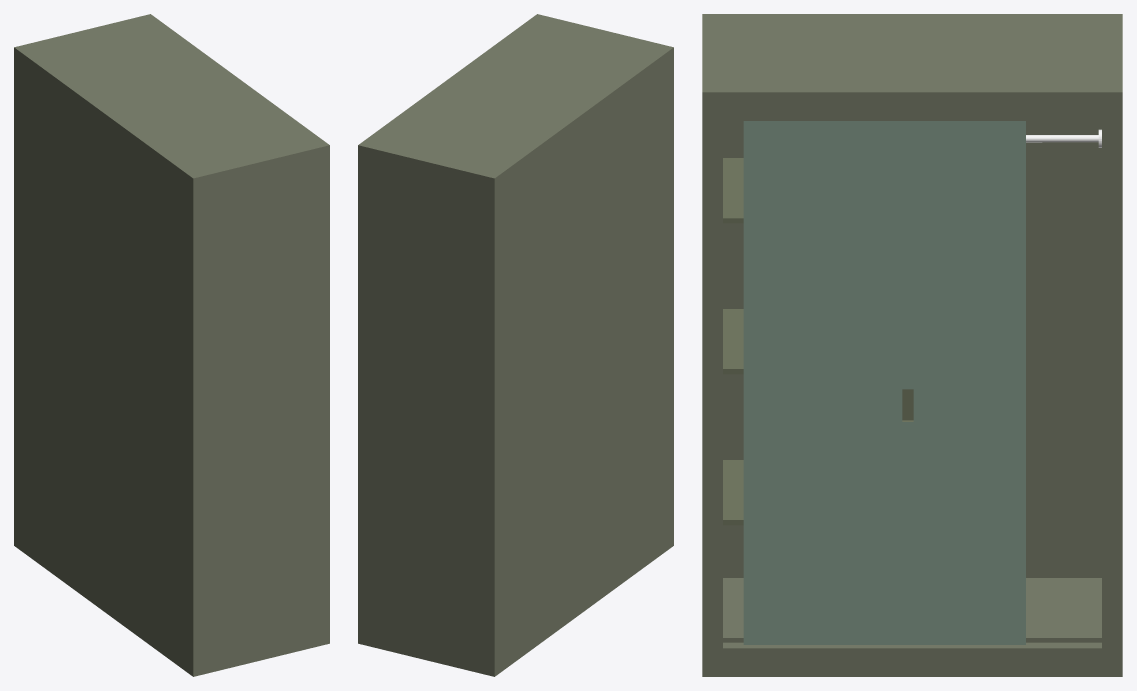
The model's file is wardrobe.fbx.
The picture shows the model from 3 angles, left to right: view 1: azimuth 30°, elevation 25°; view 2: azimuth 150°, elevation 25°; view 3: azimuth 270°, elevation 25°; orthographic projection. The views are drawn at different scales.
Parts seen in each view (by area): view 1: gauche; view 2: gauche; view 3: gauche.
Boxes of the visible parts, <box> form: gauche: <box>14,14,329,676</box>; gauche: <box>358,14,673,676</box>; gauche: <box>702,14,1122,676</box>.
Bounding box in the file's own units: 159 × 553 × 361.
